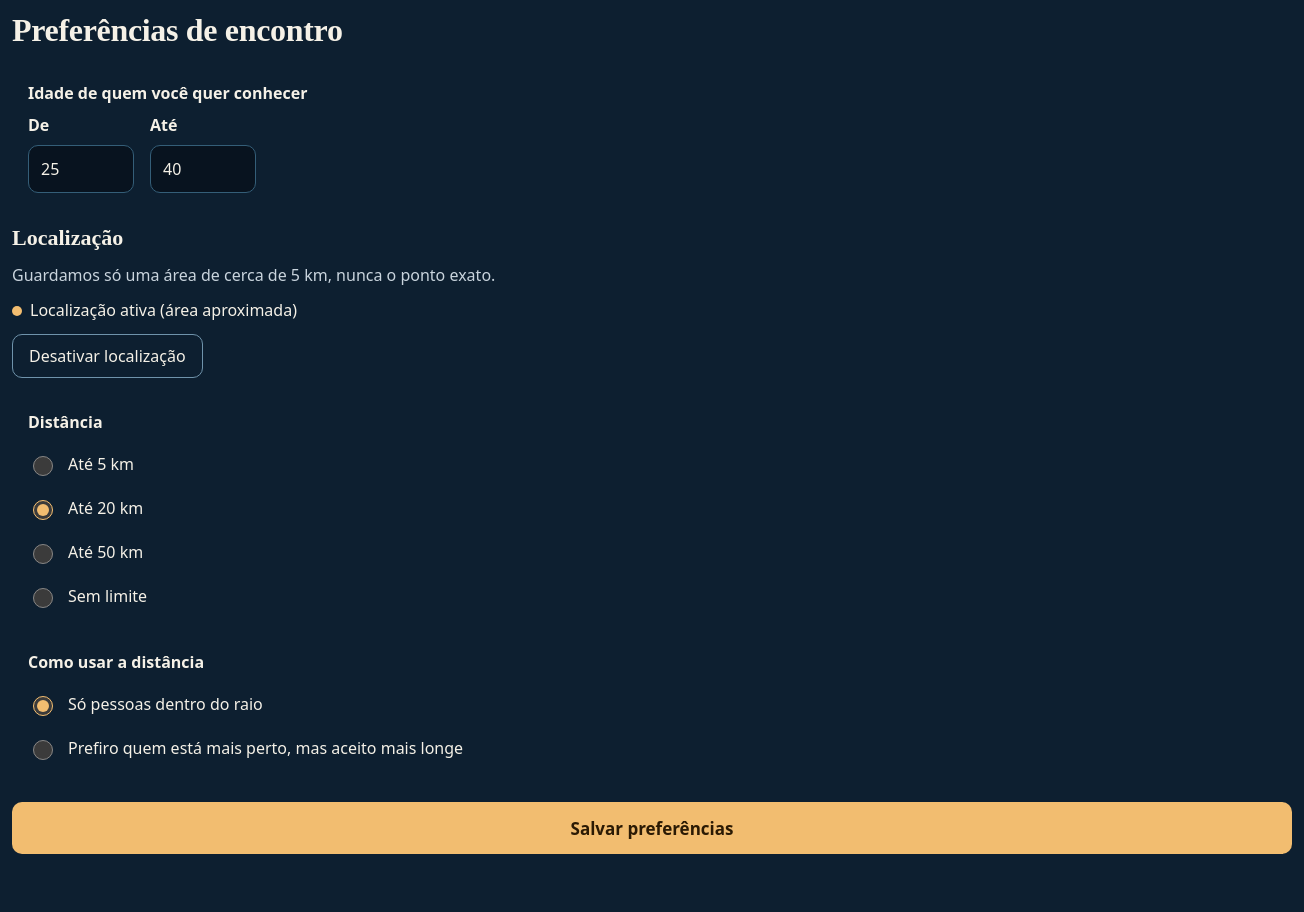
Test: Preferencias › semLimiteMandaObrigatorioFalso
Expected: the radio button labelled "Só pessoas dentro do raio" is checked, [33,696,53,716]
Step 1. Click the radio button labelled "Sem limite" → [43, 598], box [33,588,53,608]
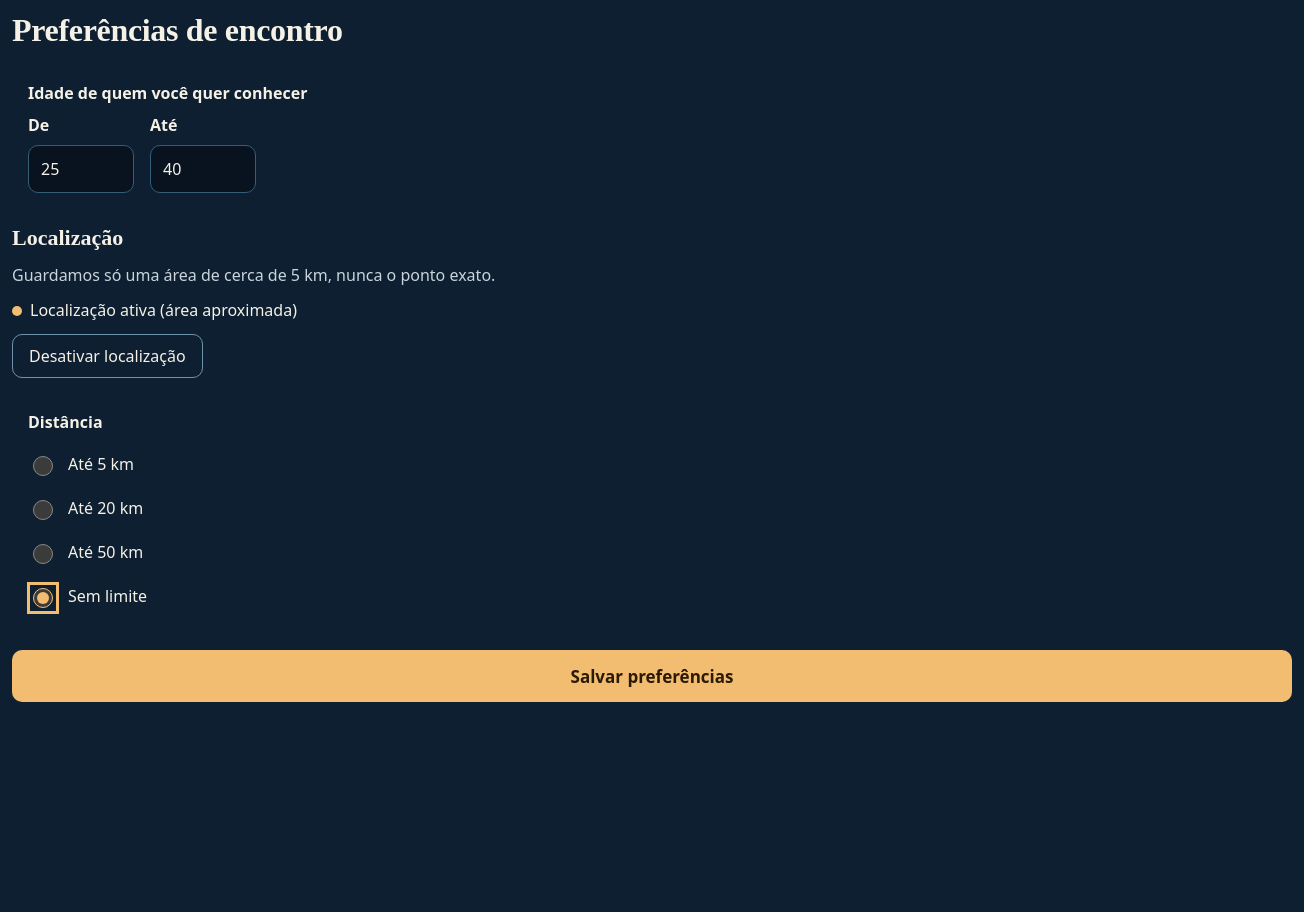
Step 2. Click the button "Salvar preferências" → [652, 676], box [12,650,1292,702]
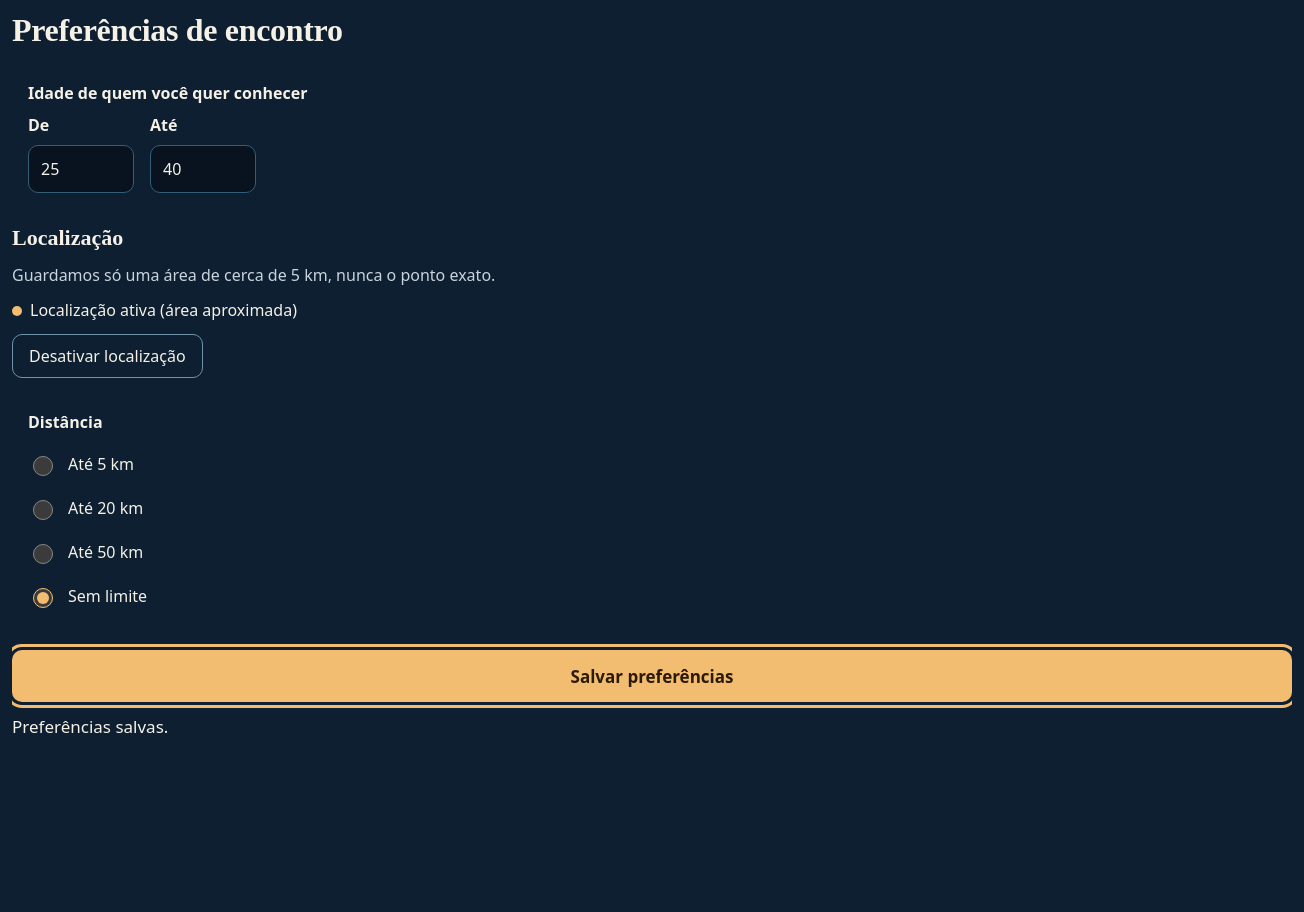
Expected: the text "Preferências salvas." is shown, [12,715,168,738]
